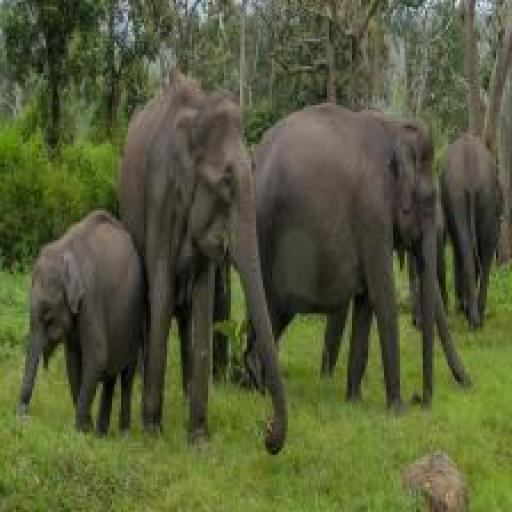Elephant: (121, 62, 288, 457), (251, 98, 438, 416), (21, 206, 137, 436), (444, 117, 508, 352)
